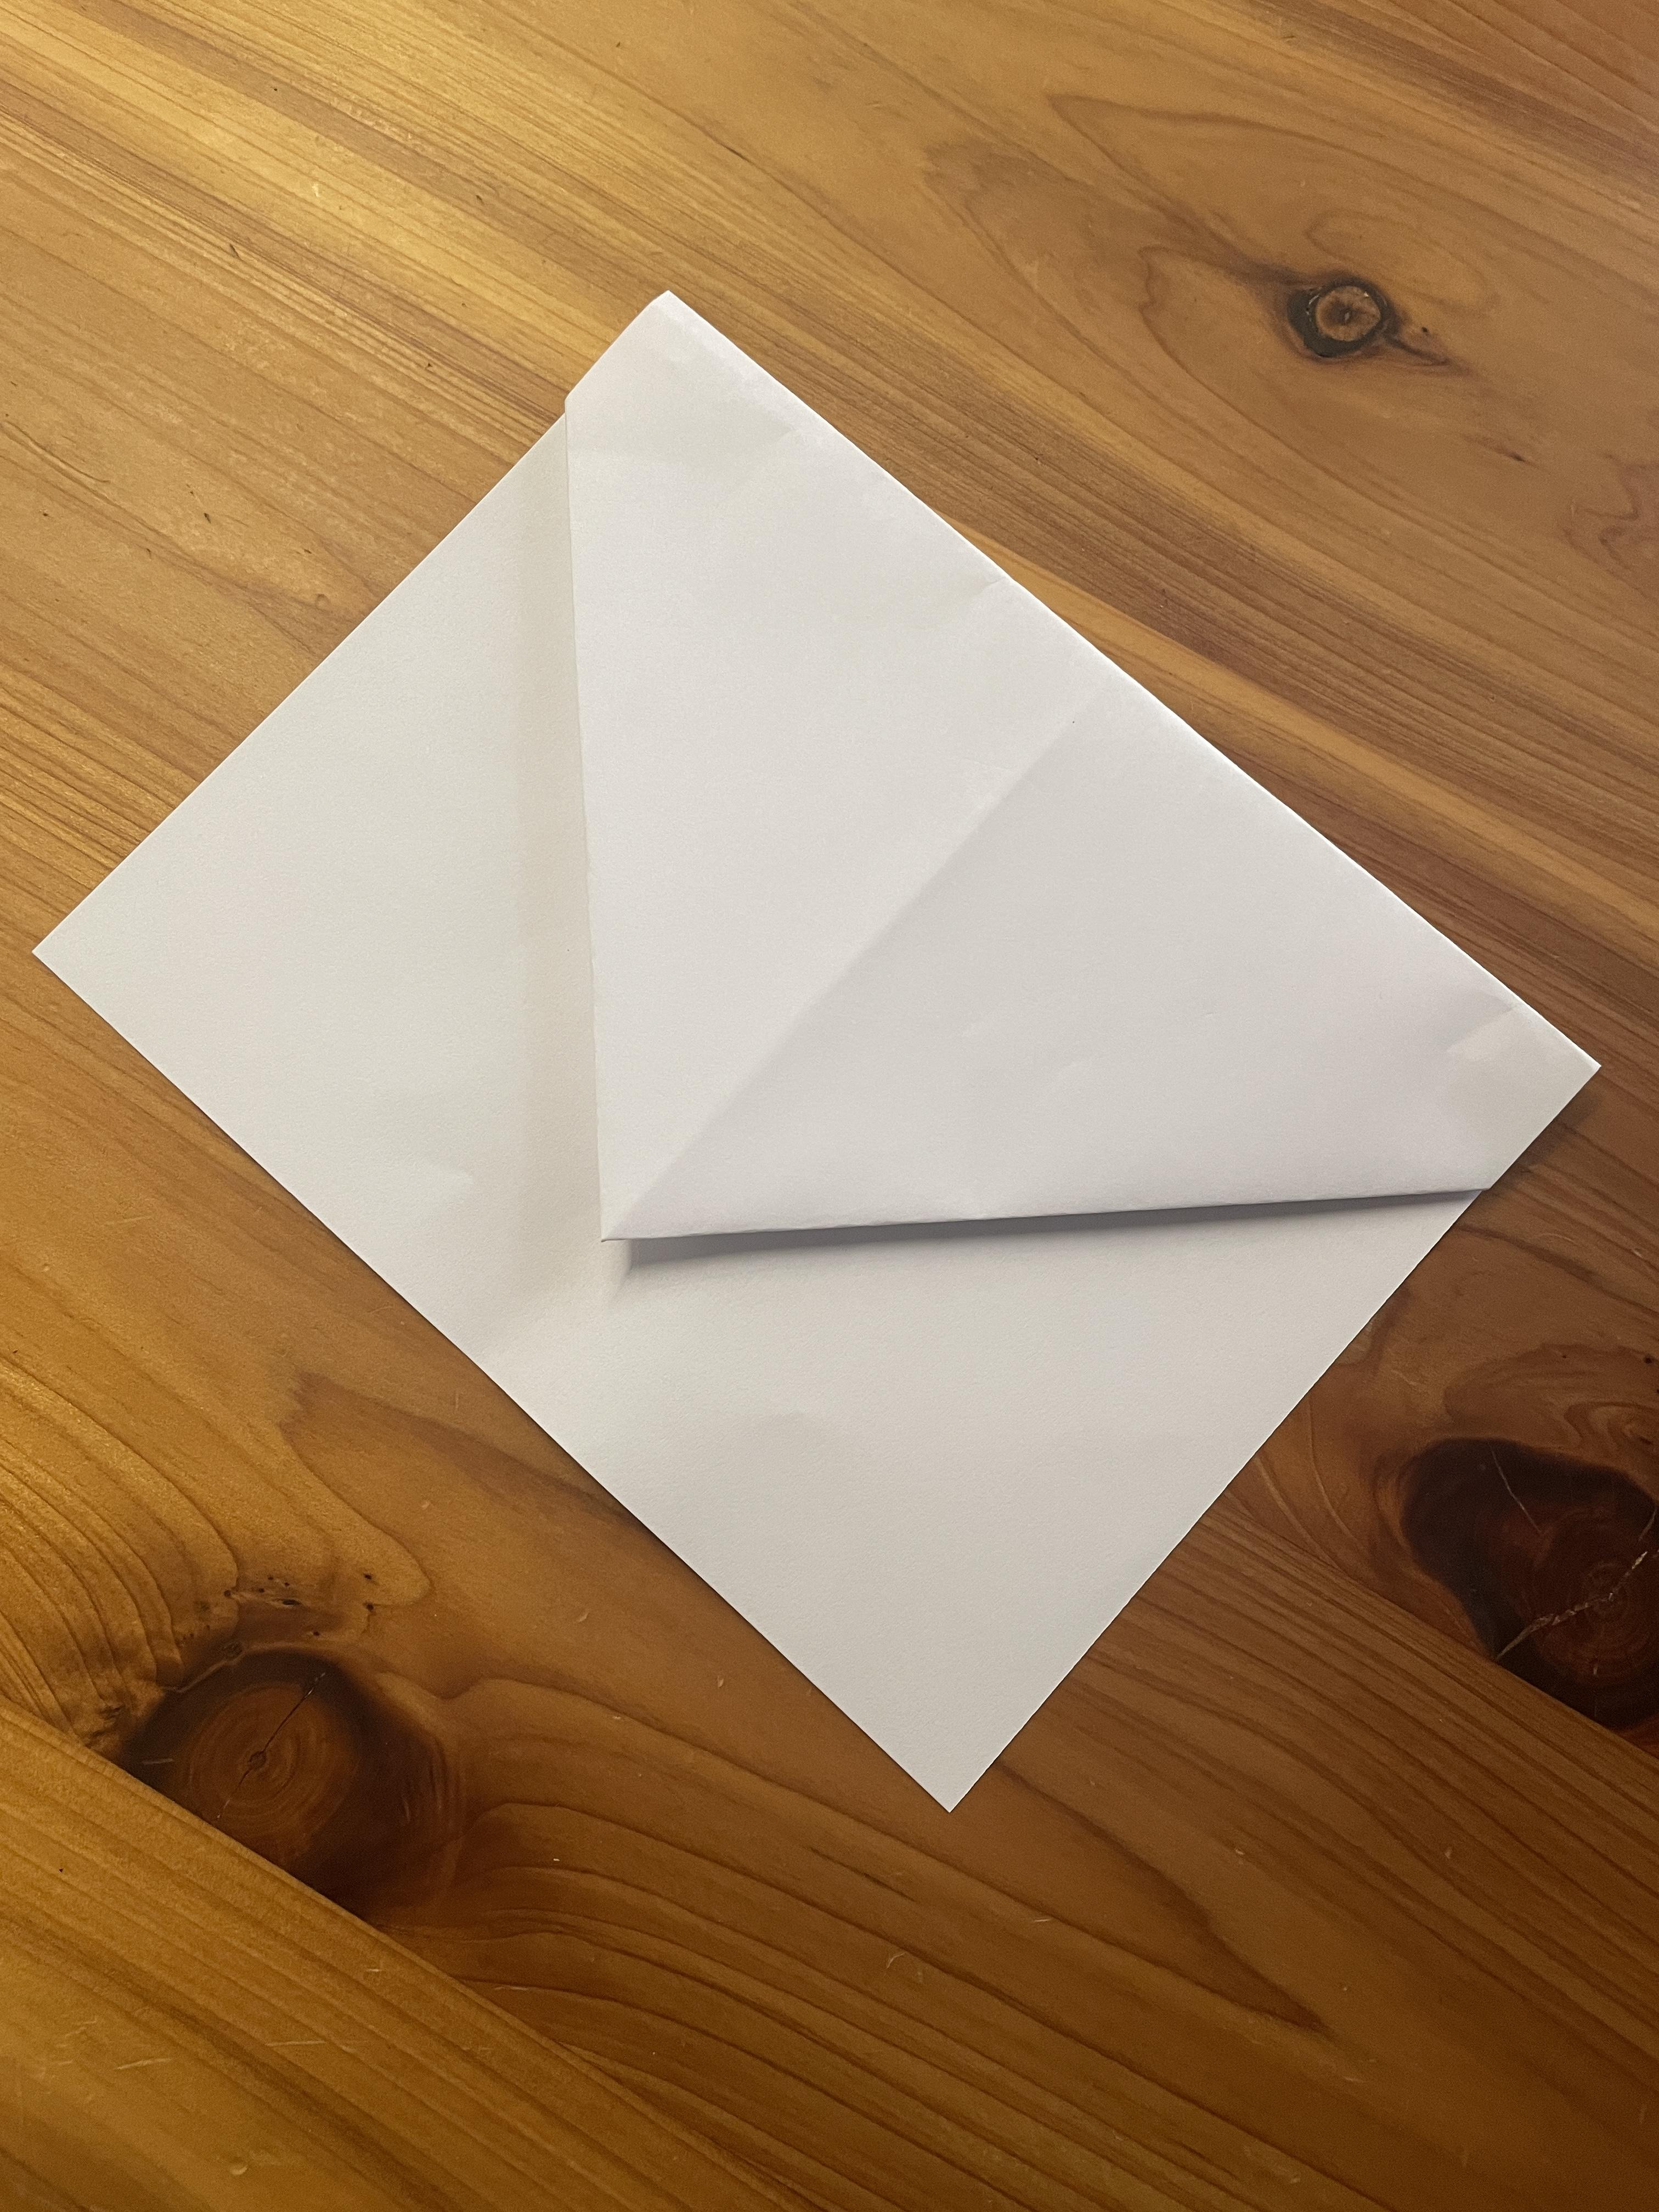shape_1: (0, 232, 1659, 1928)
